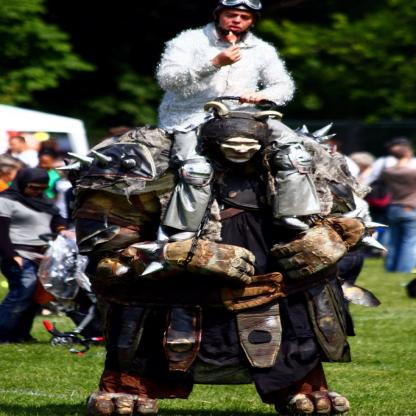Helmet: (215, 0, 260, 36)
